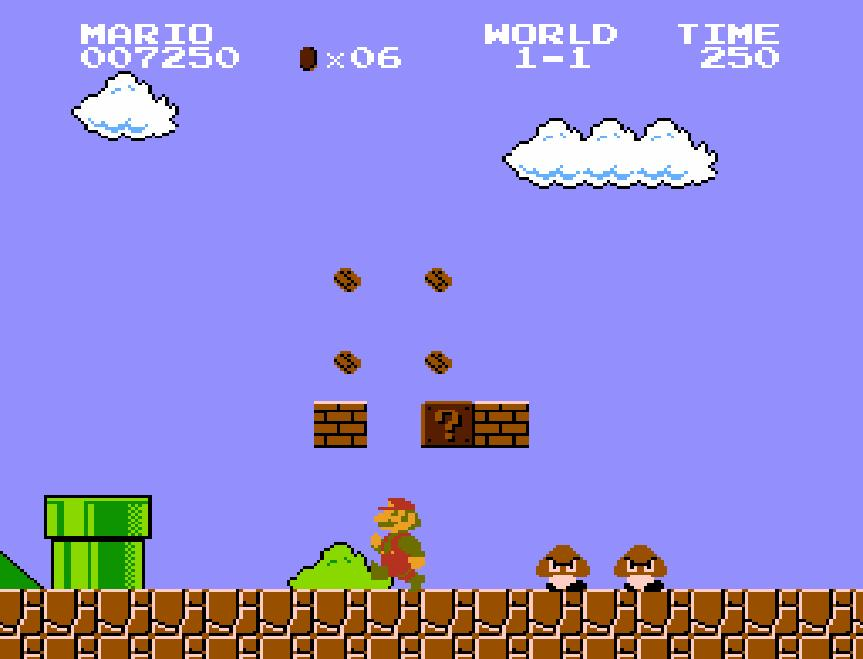big_mario: (368, 502, 426, 600)
